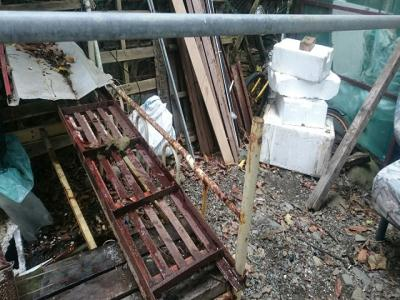styrofoam: (258, 103, 344, 180), (270, 36, 334, 83), (268, 66, 341, 100), (278, 97, 328, 128)
